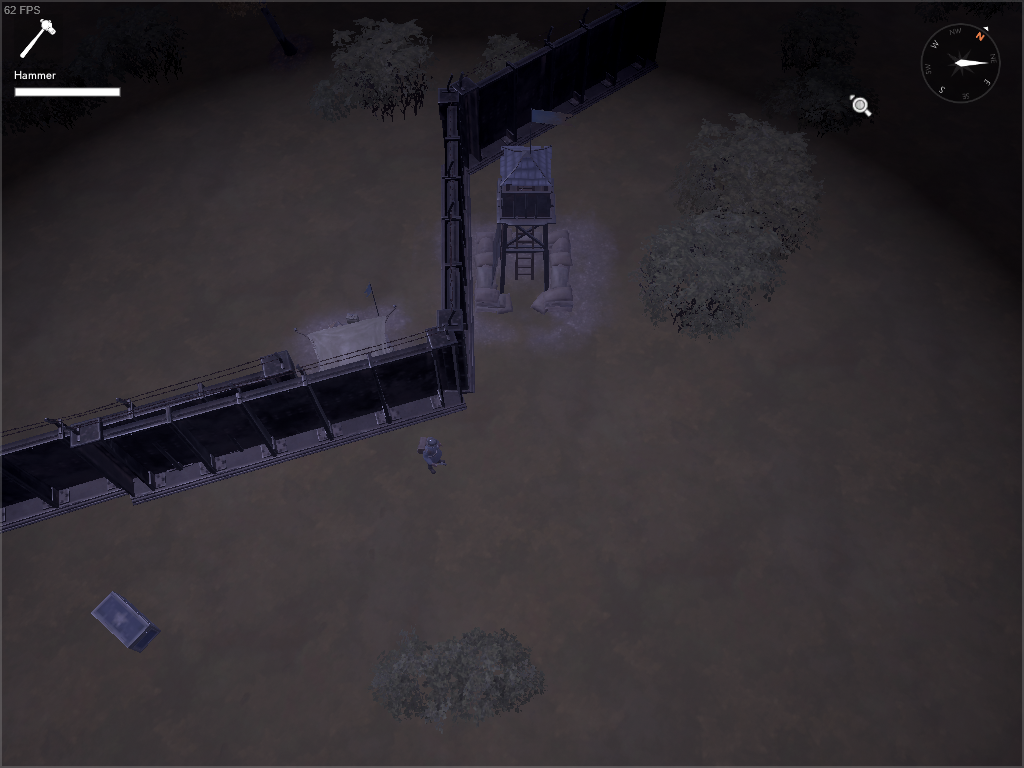fortified_wall: (68, 318, 471, 509), (1, 347, 301, 542), (443, 1, 655, 177), (431, 74, 477, 397)
foxhole: (292, 282, 402, 380)
player: (415, 433, 449, 476)
storage_box: (88, 589, 164, 654)
watchtower: (464, 108, 586, 319)
